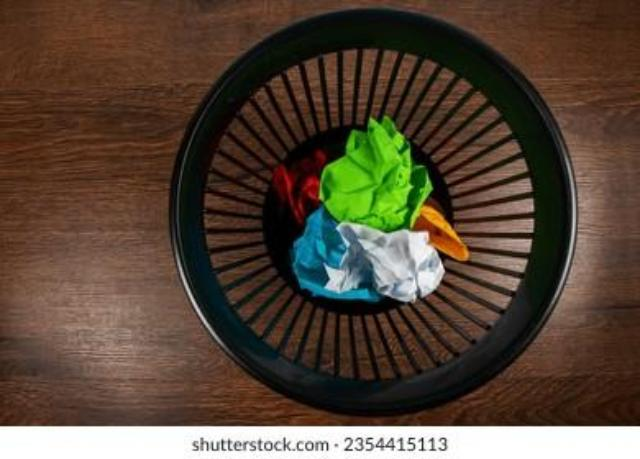Paper: (0, 1, 639, 426), (273, 118, 469, 302)
top_view_waste: (266, 119, 471, 316)
